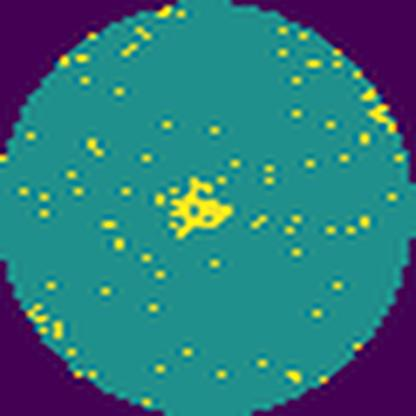Center: (168, 177, 236, 239)
